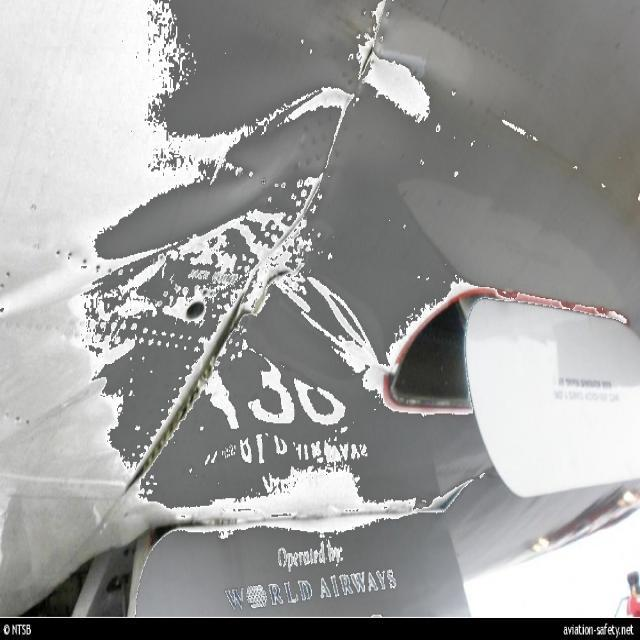crack: (233, 262, 299, 332)
